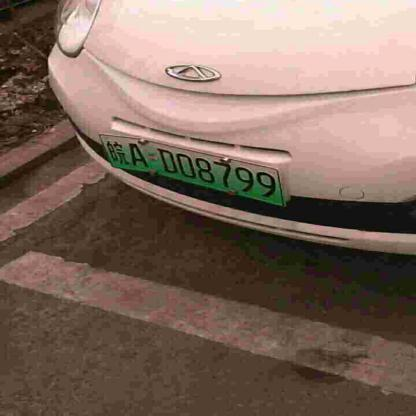lp: (100, 135, 283, 206)
